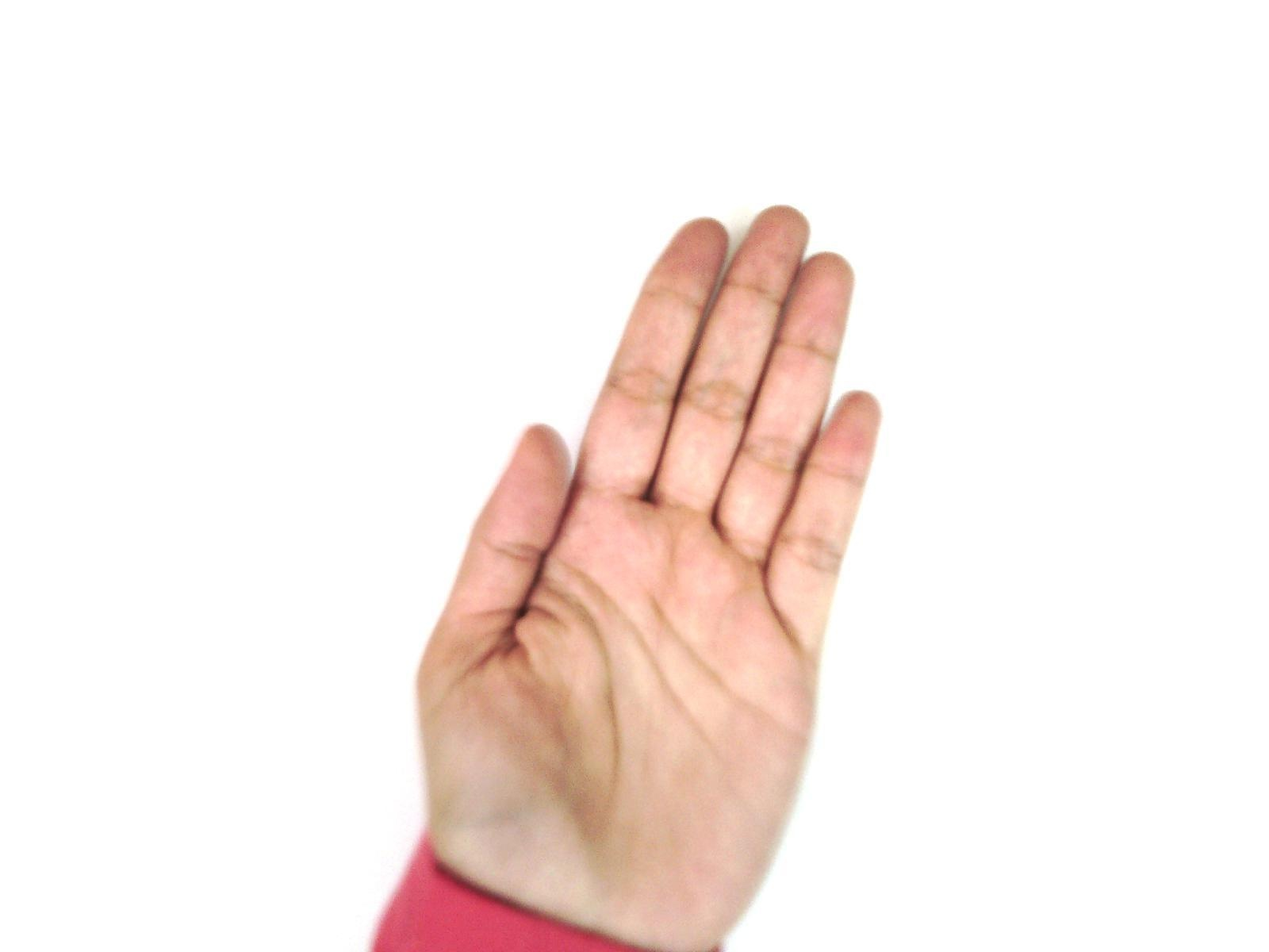open_palm: (411, 204, 885, 948)
